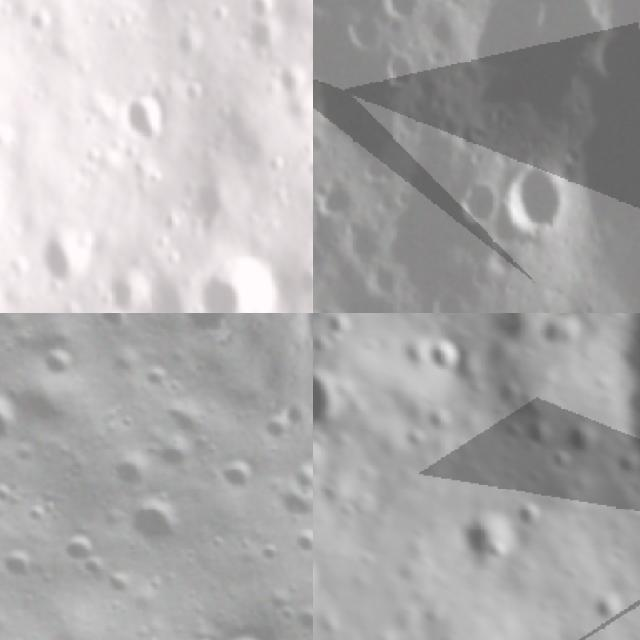crater: (497, 154, 573, 240), (120, 484, 194, 560), (190, 252, 281, 313), (456, 502, 522, 580), (35, 218, 99, 297), (313, 356, 361, 451), (187, 172, 250, 240), (115, 86, 176, 152), (33, 333, 91, 391), (106, 439, 162, 494), (449, 176, 504, 230), (97, 265, 157, 313), (51, 520, 107, 571), (210, 447, 263, 500), (420, 331, 469, 387), (0, 539, 42, 593), (380, 45, 428, 92), (533, 313, 585, 355), (585, 588, 636, 630), (316, 174, 358, 222), (251, 407, 296, 451), (349, 7, 390, 52), (176, 313, 225, 350), (519, 412, 559, 456), (0, 387, 25, 453), (88, 313, 145, 340), (561, 424, 600, 461), (508, 503, 553, 535), (253, 536, 292, 572), (317, 313, 355, 349), (544, 447, 580, 481), (287, 516, 313, 557), (372, 0, 433, 17), (293, 262, 313, 304), (313, 334, 325, 381), (313, 557, 321, 601)
